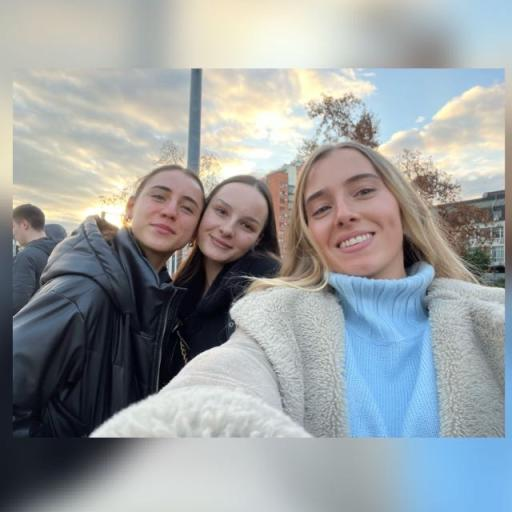marija: (209, 183, 266, 259)
masa: (131, 168, 205, 254)
